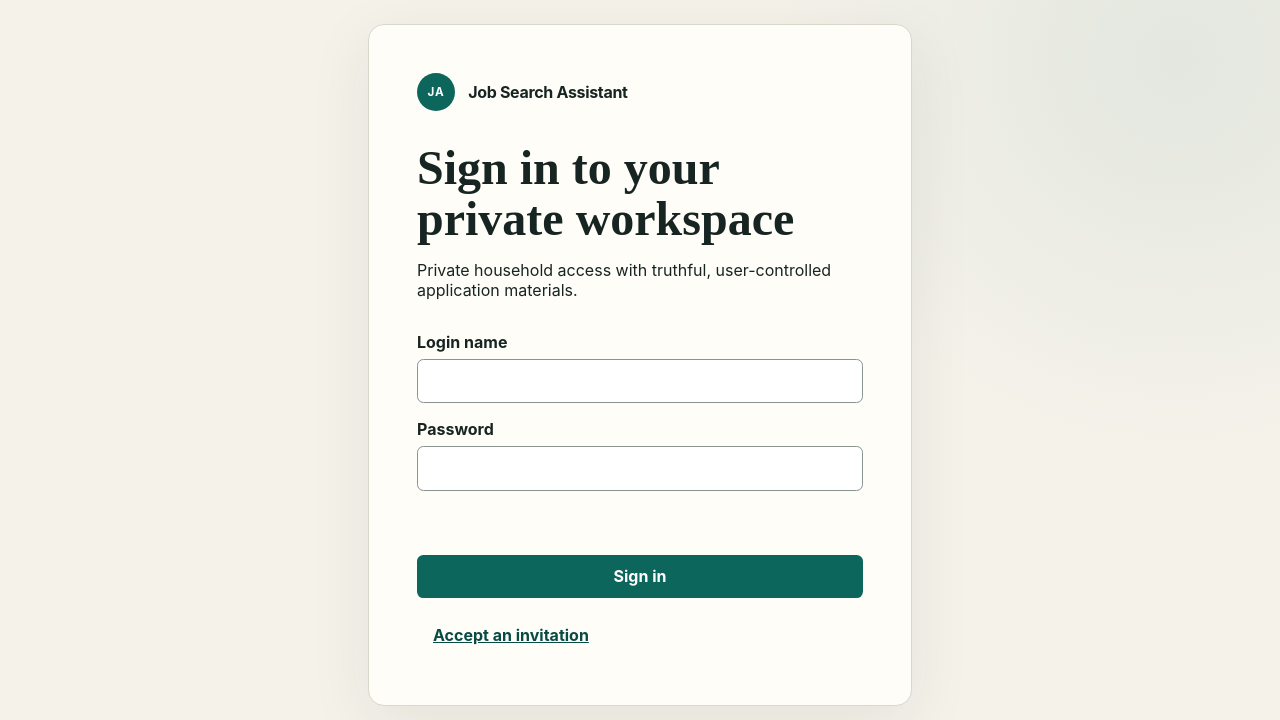
Test case: authentication experience › handles generic login failure, rate limiting, and success
Expected: the heading "Sign in to your private workspace" is shown, [417,141,794,245]
Type "member" into the field labelled "Login name".
click(640, 381); type("member")  # box [417,359,863,403]
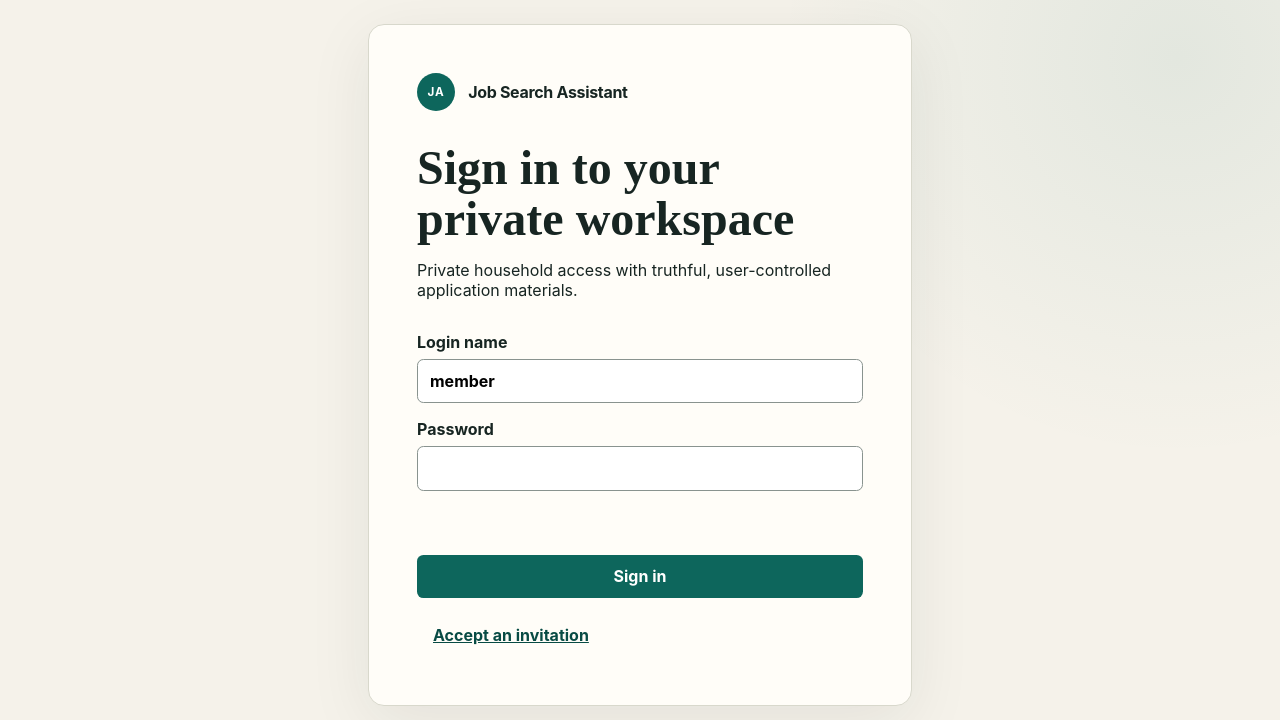
Type "secret" into the password field labelled "Password".
click(640, 468); type("secret")  # box [417,446,863,491]
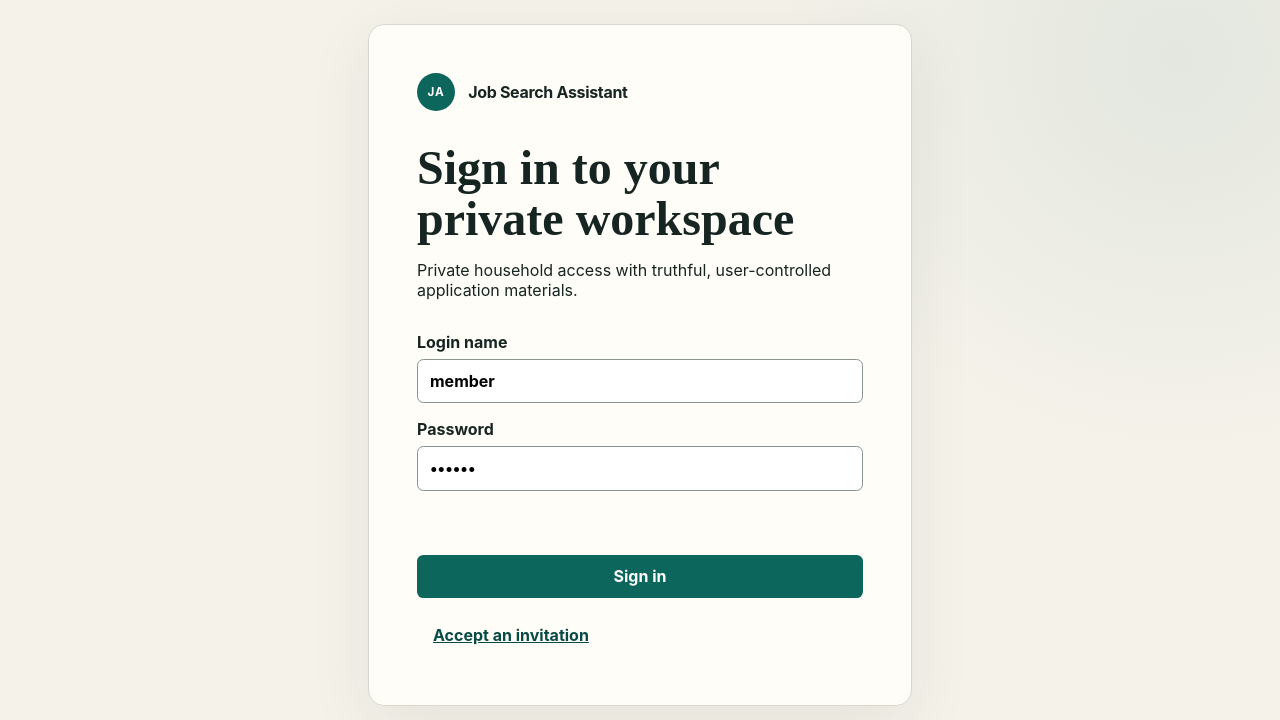
Click the button "Sign in".
click(640, 576)  # box [417,554,863,598]
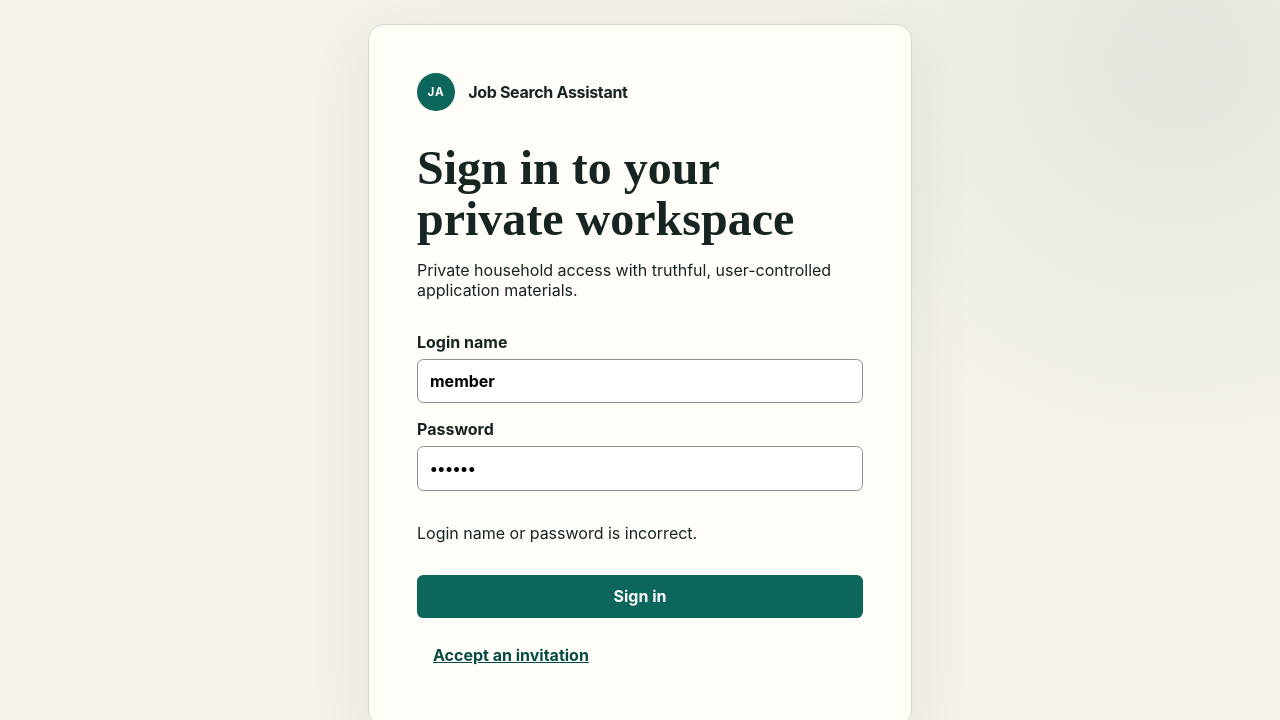
Now the message shows "incorrect", box [417,522,697,542]
Click the button "Sign in".
click(640, 596)  # box [417,574,863,618]
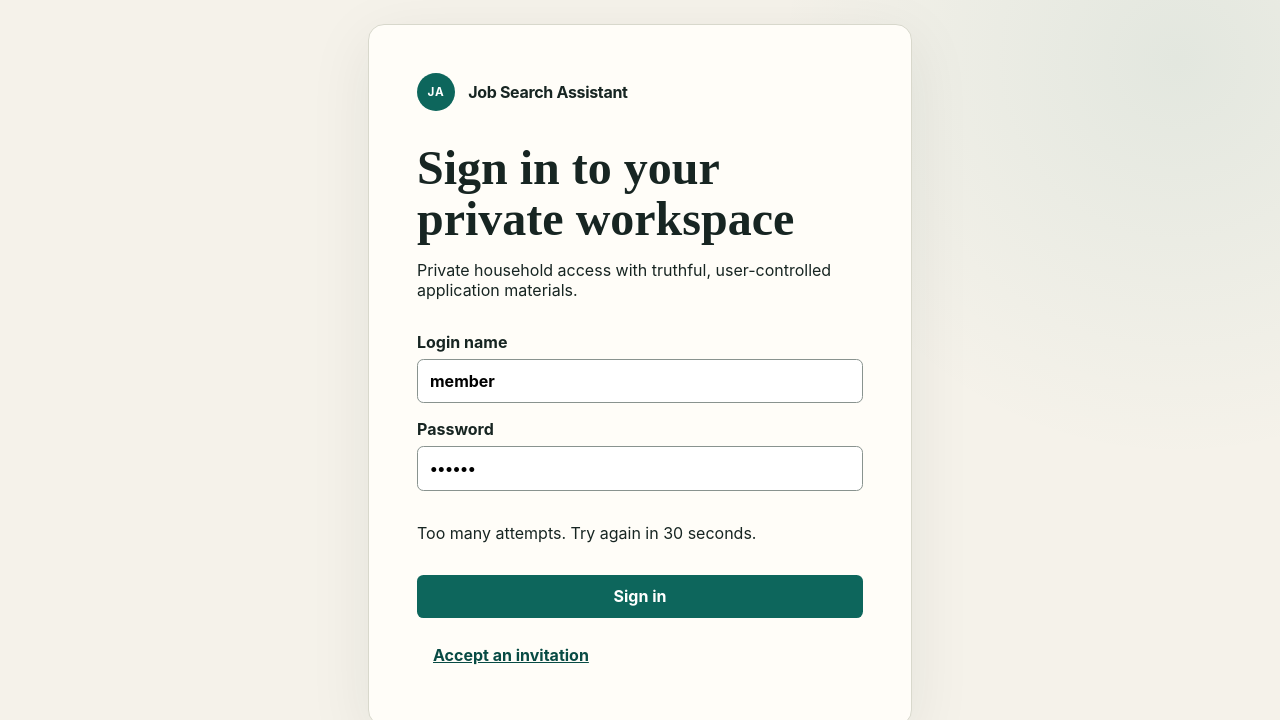
Now the message shows "30 seconds", box [417,522,756,542]
Click the button "Sign in".
click(640, 596)  # box [417,574,863,618]
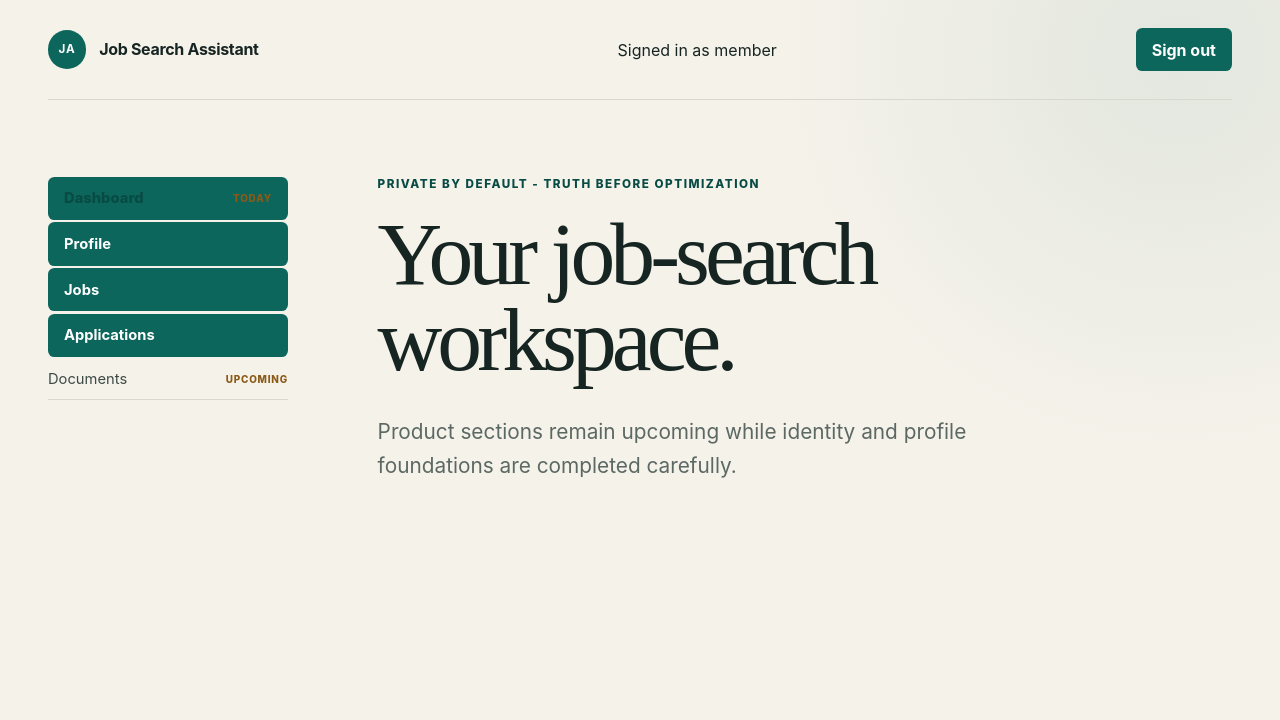
Now the text "Signed in as member" is shown, box [618,40,777,60]
